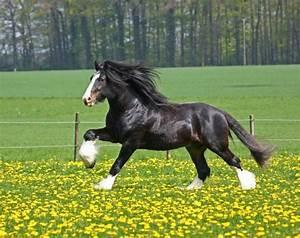horse: (80, 59, 277, 191)
